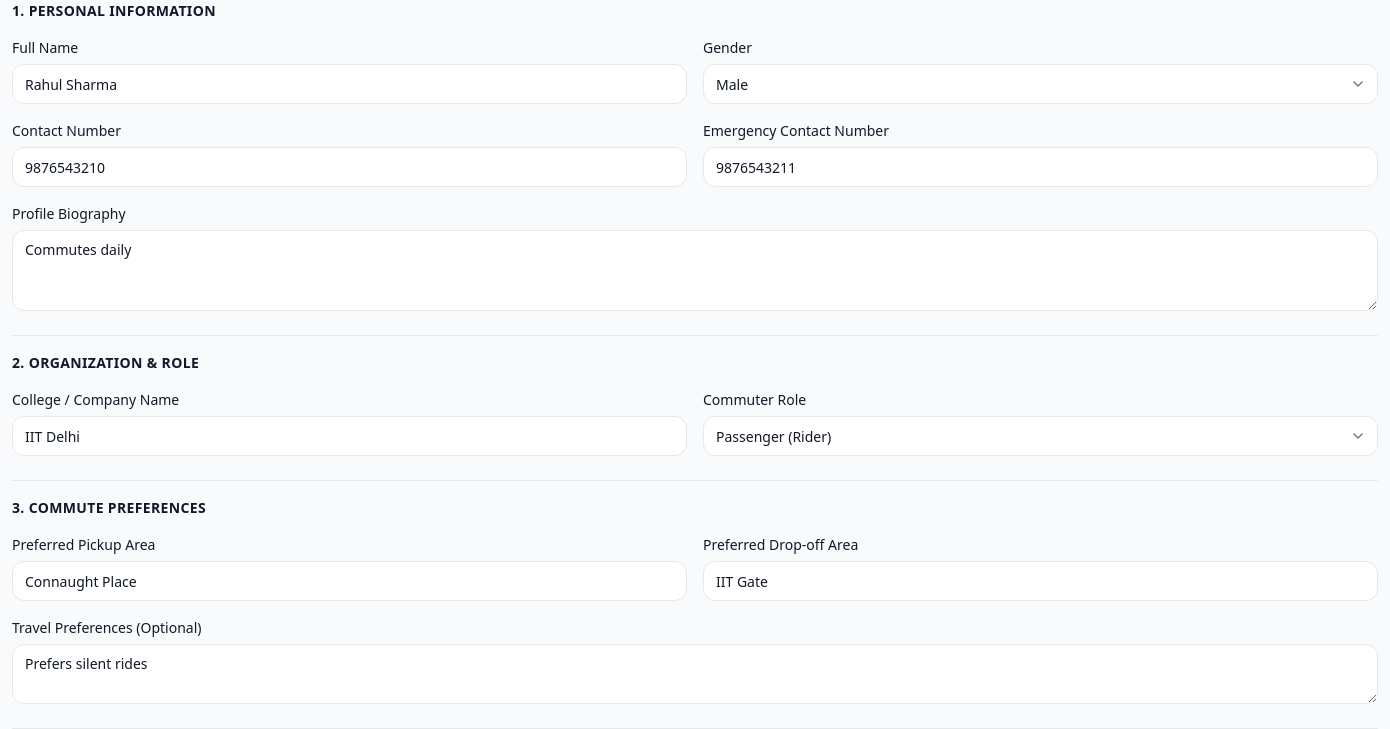
ProfileForm & Validations (Client Schema) › dynamically displays vehicle section when role is changed to driver
Select "Driver (Owner)" in the dropdown labelled "Commuter Role". click: coordinates (1040, 436)
box: [703,416,1378,456]
(page scrolled)
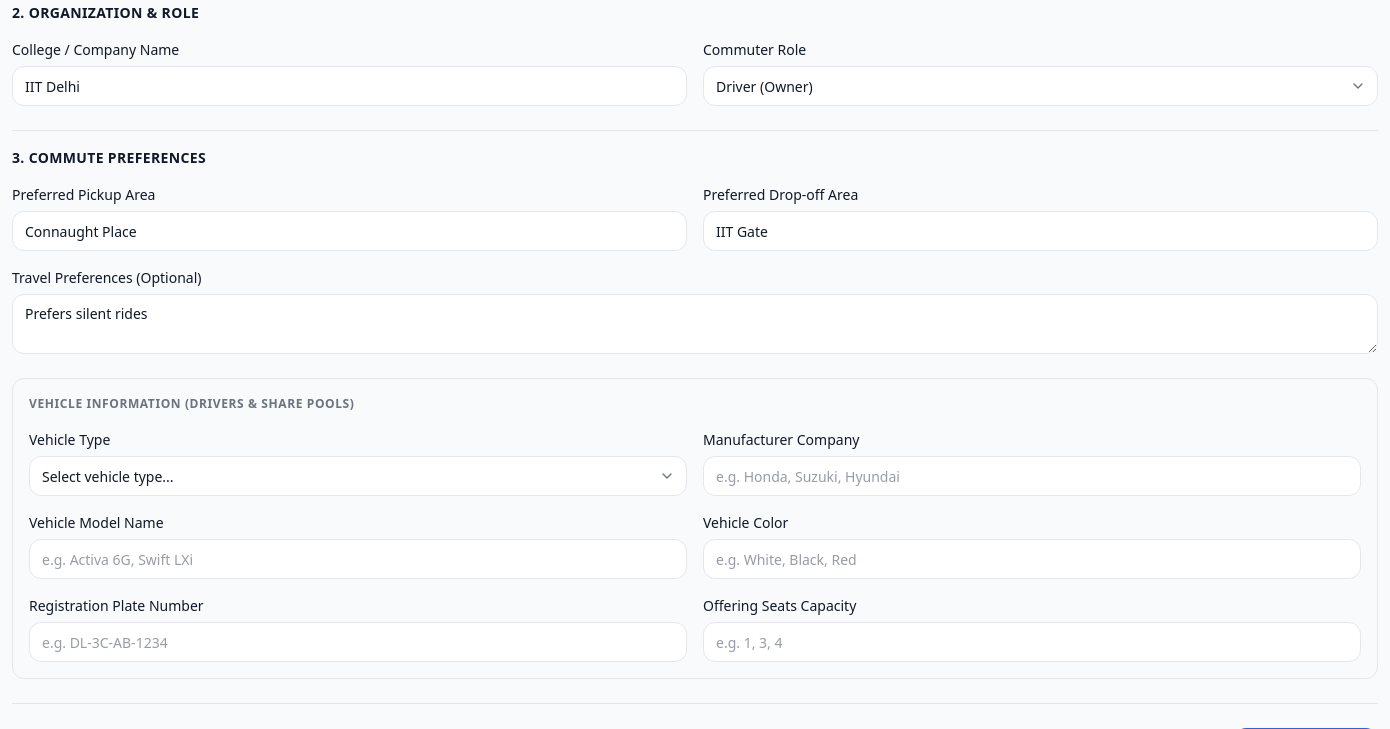
Expected: the heading "Vehicle Information (Drivers & Share Pools)" is shown, [29,395,354,412]
Expected: the dropdown labelled "Vehicle Type" is shown, [29,456,687,496]
